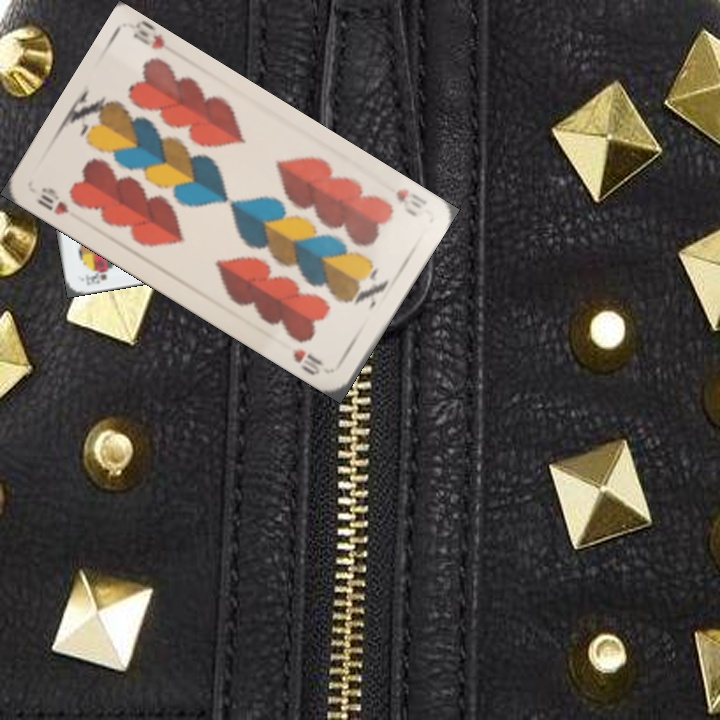H10: (392, 184, 430, 220), (33, 183, 72, 218)
SK: (81, 266, 110, 288)
